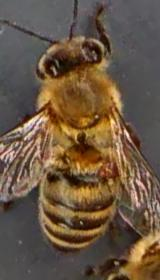varroa_mite: (92, 154, 120, 186)
